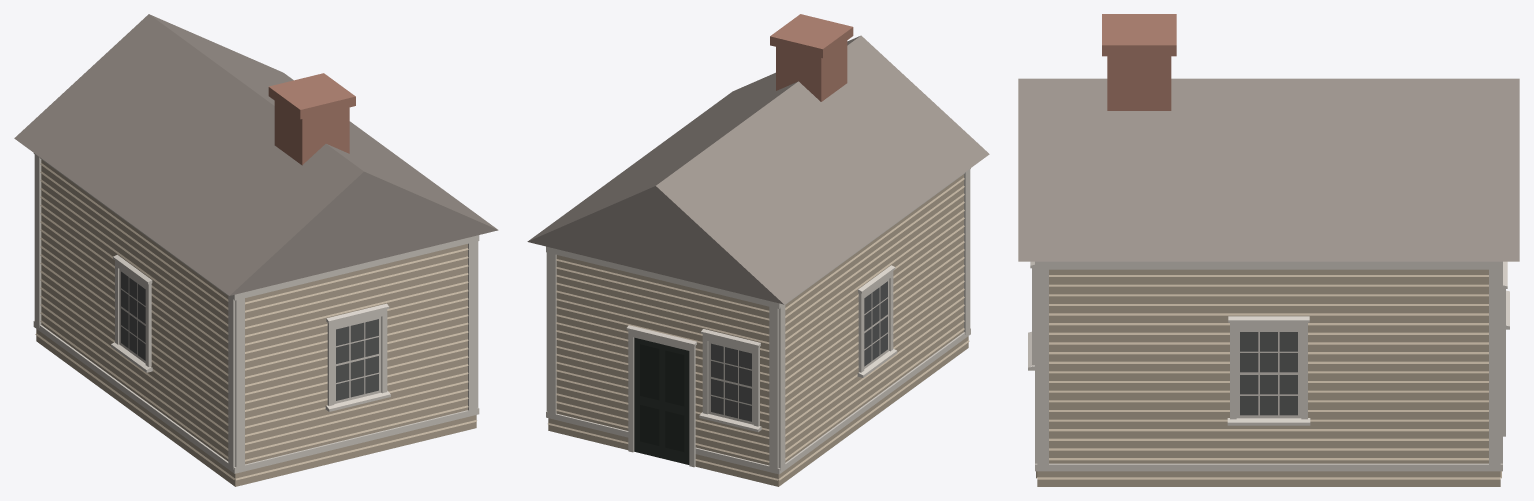
The model's file is inf_barber_shop__inferred_1835.glb.
3 renders of one model, left to right at view 1: azimuth 30°, elevation 25°; view 2: azimuth 150°, elevation 25°; view 3: azimuth 270°, elevation 25°, orthographic. The views are drawn at different scales.
Visible parts, largest first — view 1: inf_barber_shop__inferred_1835; view 2: inf_barber_shop__inferred_1835; view 3: inf_barber_shop__inferred_1835.
Boxes of the visible parts, left/top/right/bottom form: inf_barber_shop__inferred_1835: left=14, top=14, right=498, bottom=486; inf_barber_shop__inferred_1835: left=527, top=14, right=989, bottom=486; inf_barber_shop__inferred_1835: left=1018, top=14, right=1519, bottom=486.
Bounding box in the file's own units: 4.77 × 5.65 × 6.6.
